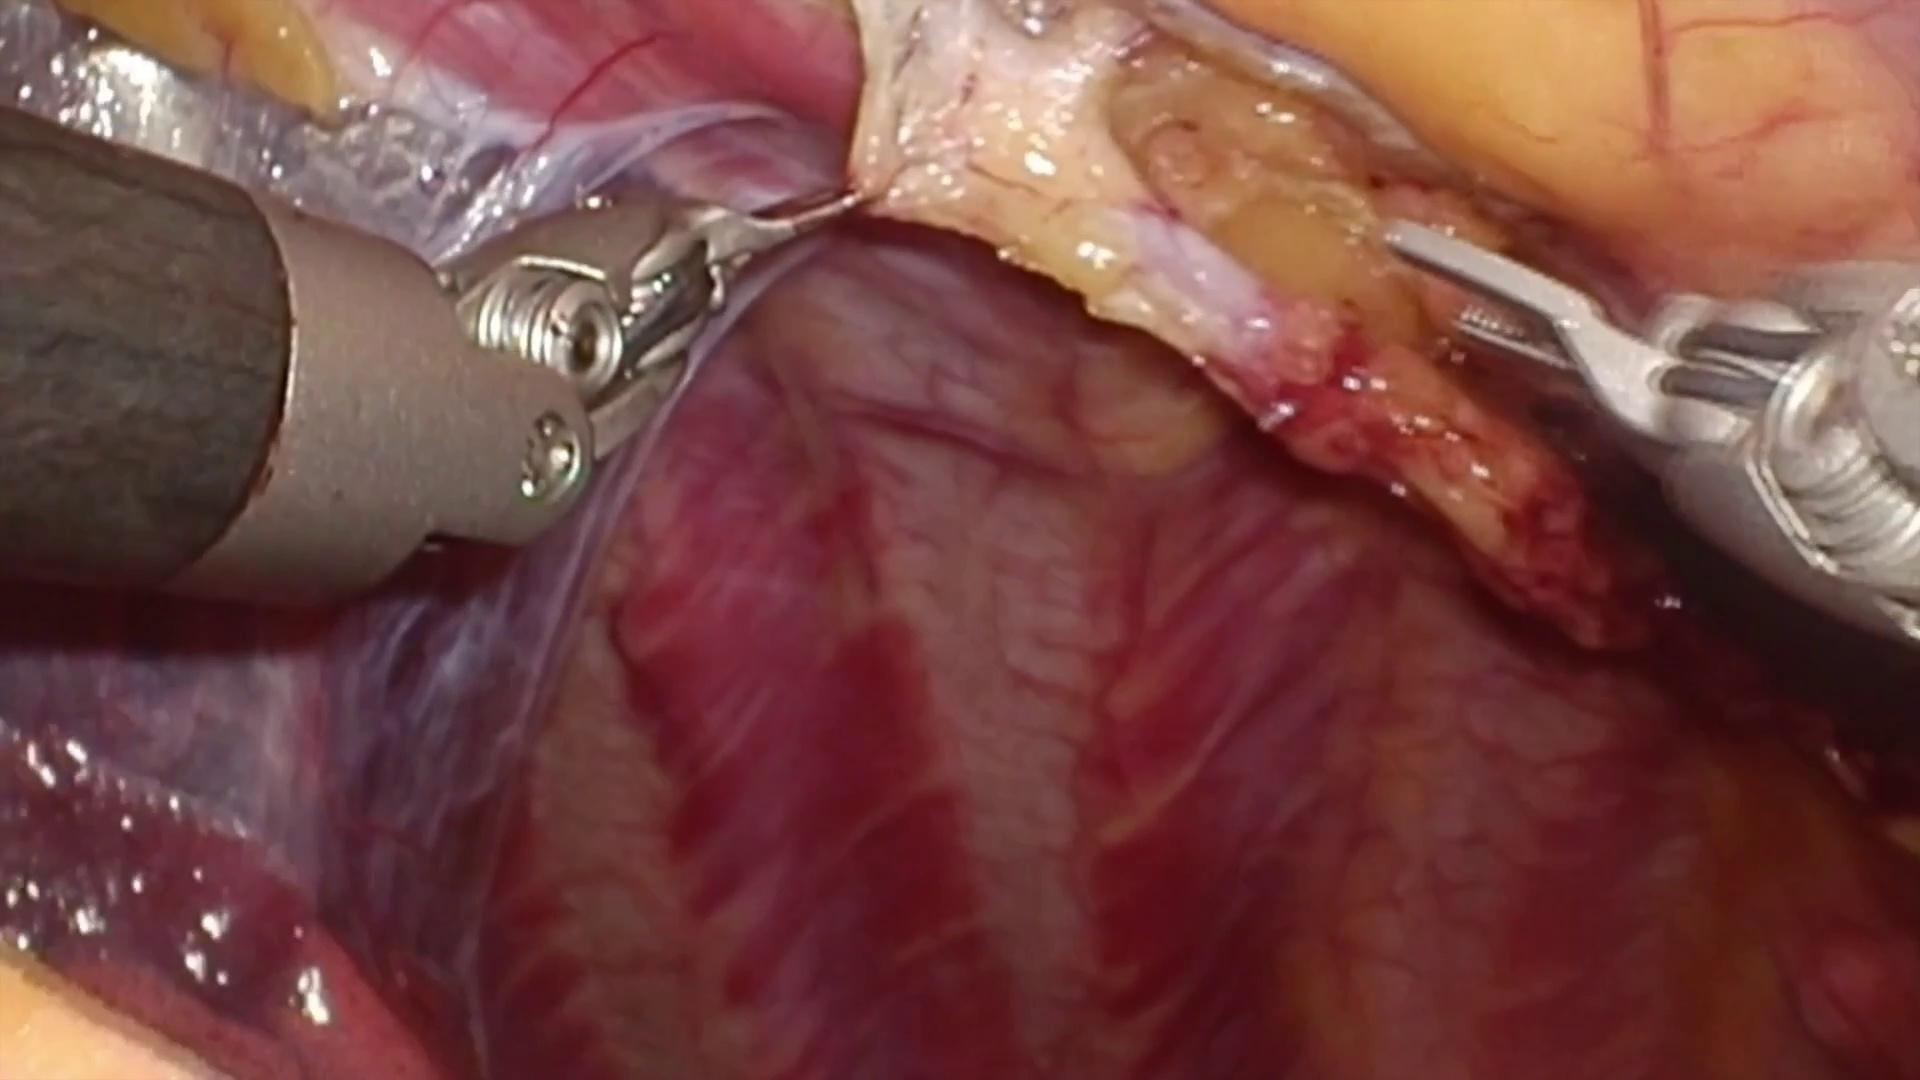Debakey: (655, 169, 880, 297)
clipper: (1393, 220, 1920, 692)
